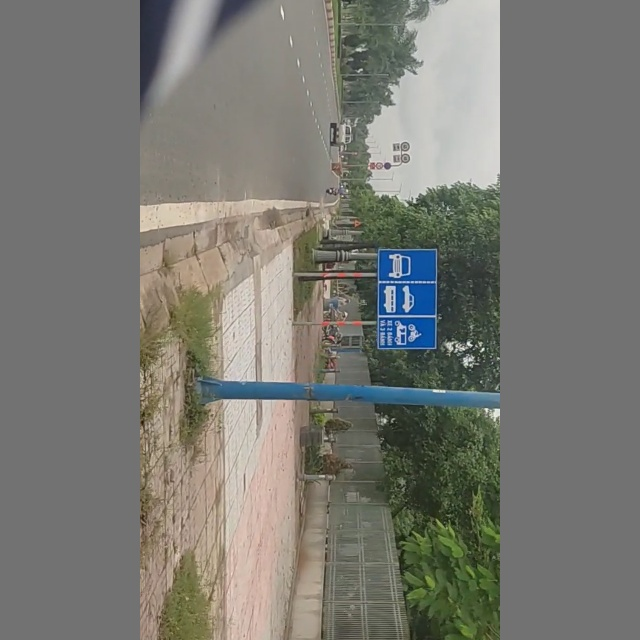R.415a: (377, 249, 440, 350)
